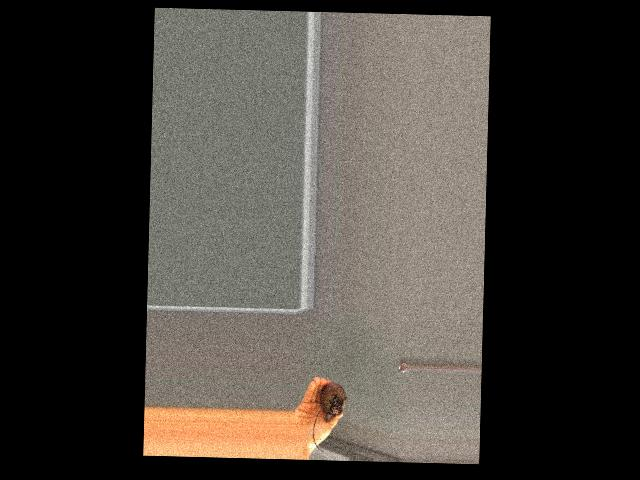beet: (312, 373, 346, 451)
